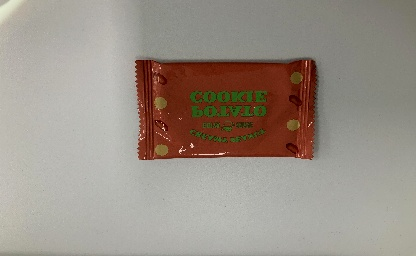pota: (132, 56, 320, 163)
